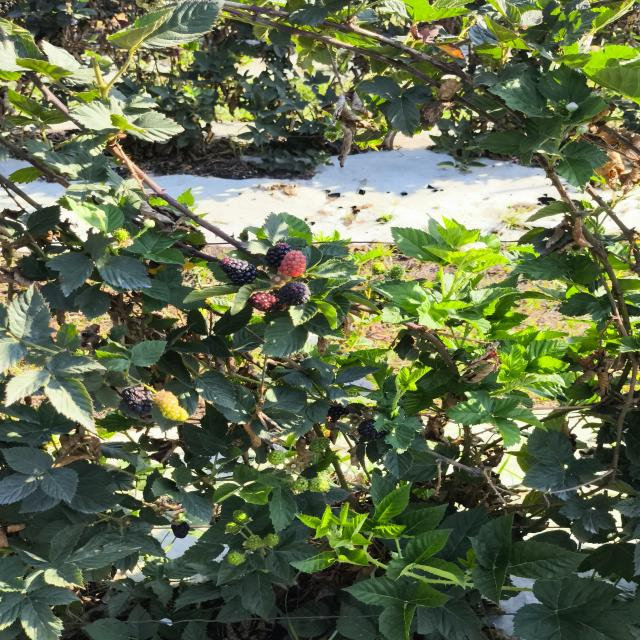maduro: (218, 256, 257, 286), (122, 386, 153, 415), (276, 282, 311, 305), (266, 242, 292, 267)
marron: (249, 292, 280, 312)
naranja: (279, 250, 306, 277)
verde: (154, 389, 189, 421), (308, 476, 330, 492), (243, 534, 263, 551), (309, 437, 330, 453), (267, 450, 286, 465), (226, 552, 245, 565), (292, 477, 309, 491), (262, 533, 279, 547), (225, 522, 242, 534), (233, 510, 248, 523)
